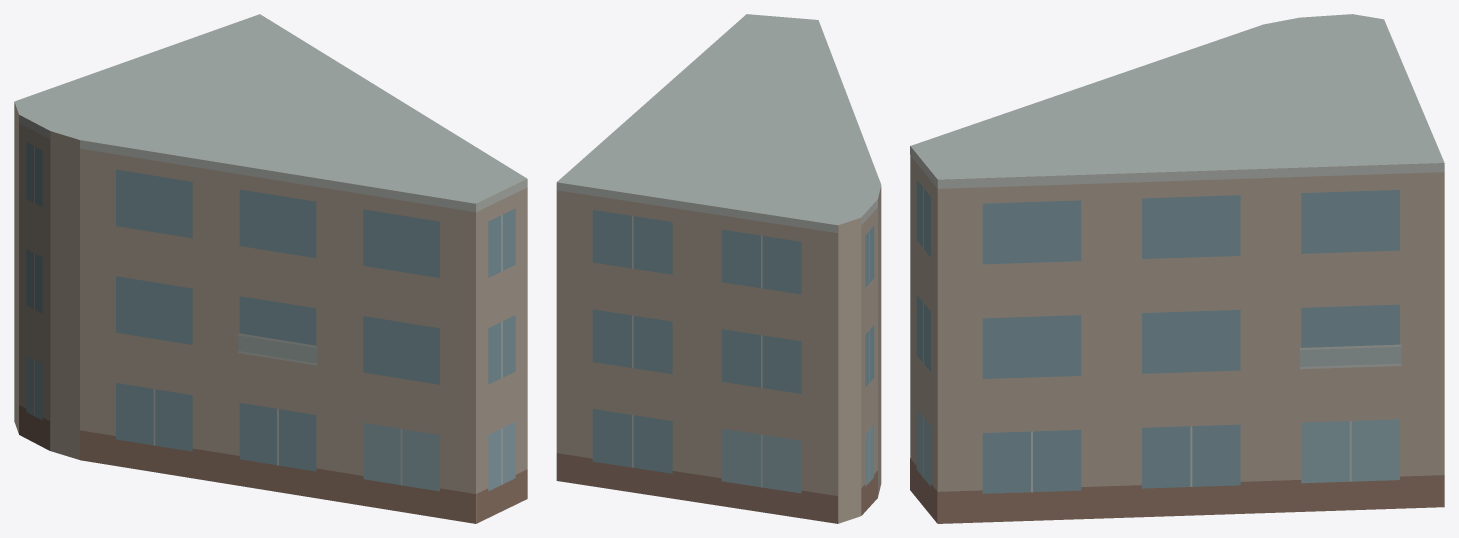
The model's file is survey-upis-32673140.glb.
3 renders of one model, left to right at view 1: azimuth 30°, elevation 25°; view 2: azimuth 150°, elevation 25°; view 3: azimuth 270°, elevation 25°, orthographic. The views are drawn at different scales.
Visible parts, largest first — view 1: survey-upis-32673140.tmp; view 2: survey-upis-32673140.tmp; view 3: survey-upis-32673140.tmp.
Part boxes in pixels (bbox=[...]): survey-upis-32673140.tmp: bbox=[14, 14, 527, 523]; survey-upis-32673140.tmp: bbox=[556, 14, 881, 523]; survey-upis-32673140.tmp: bbox=[910, 14, 1444, 523].
Bounding box in the file's own units: 9.46 × 9.15 × 12.89.
